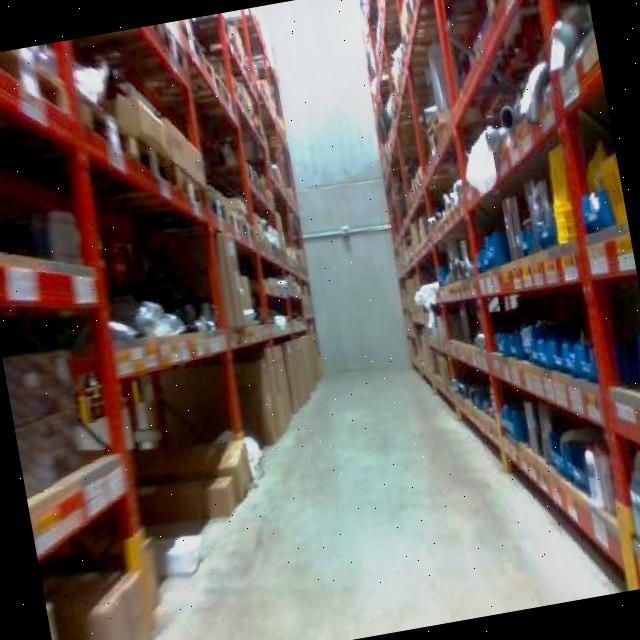ground: (30, 319, 640, 640)
pallet: (0, 5, 377, 640), (346, 0, 640, 619), (0, 39, 175, 640), (528, 0, 640, 588), (128, 425, 263, 532)
